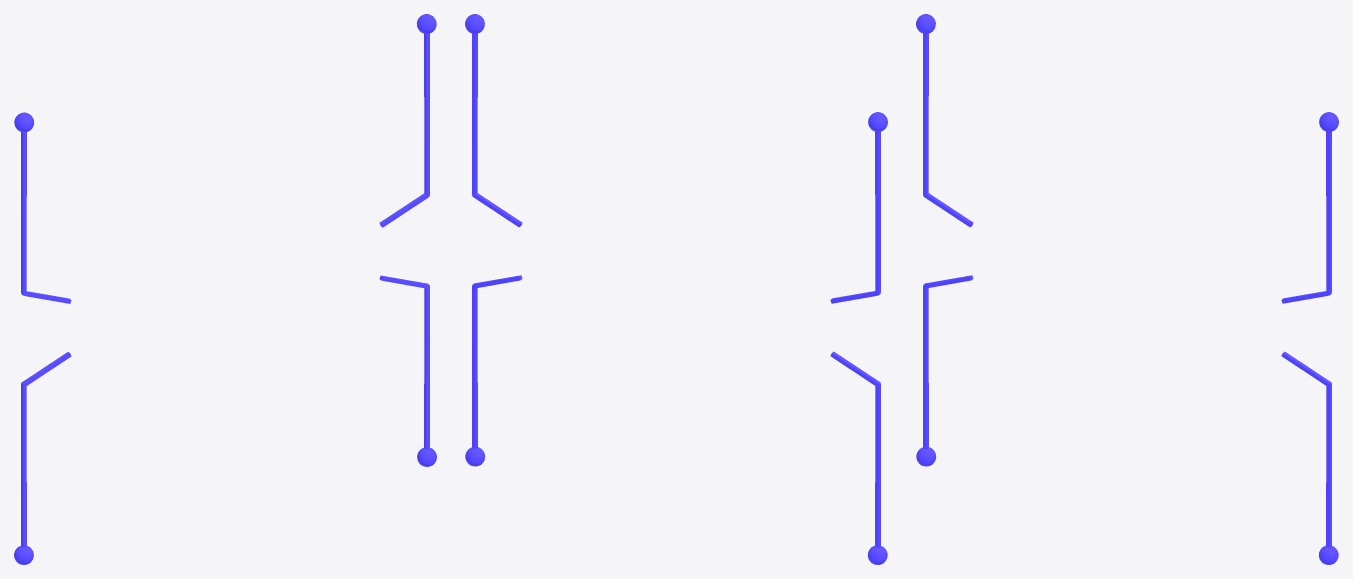
File: SegnPortraitSocial.gltf
3 views of the same model, side by side, from view 1: azimuth 30°, elevation 25°; view 2: azimuth 150°, elevation 25°; view 3: azimuth 330°, elevation 25° (orthographic).
Visible parts, largest first — view 1: ListnerModuli.009; view 2: ListnerModuli.009; view 3: ListnerModuli.009.
Part boxes in pixels (box(x1,y1,x2,y2)): ListnerModuli.009: box(14, 14, 436, 564); ListnerModuli.009: box(465, 14, 887, 564); ListnerModuli.009: box(916, 14, 1338, 564).
Size of the model in its own units: 1.03 by 1.05 by 0.0434.
